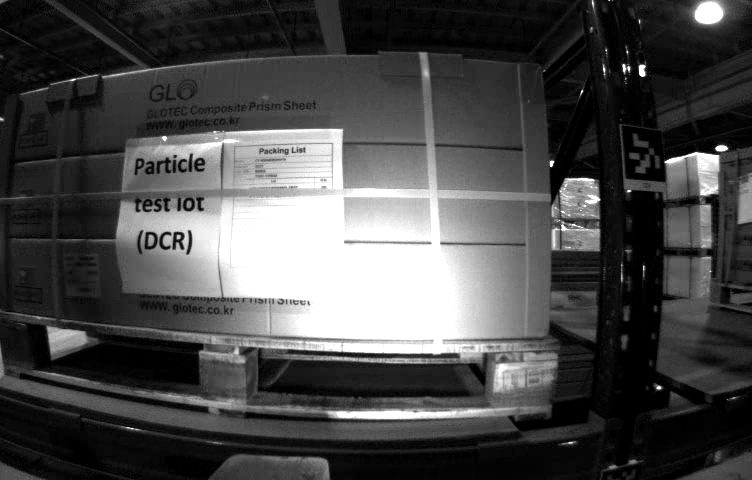True Barcode: (58, 249, 103, 298)
